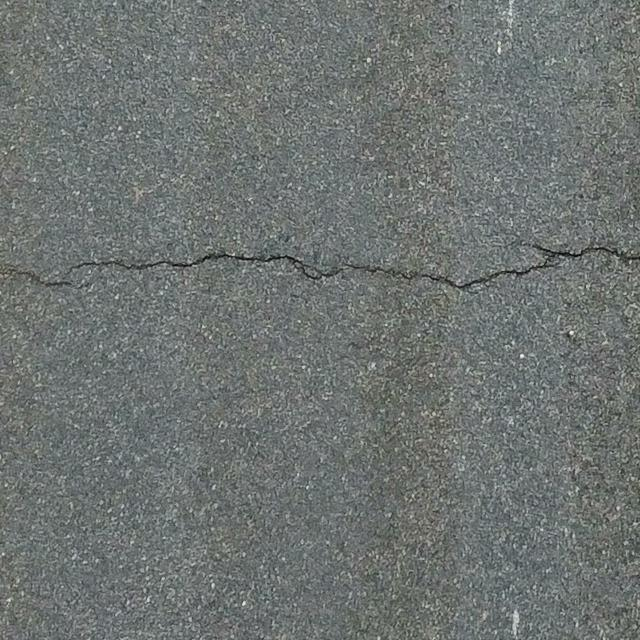TransverseCrack: (12, 242, 640, 291)
